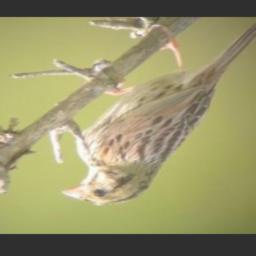Sparrow: (60, 19, 256, 209)
